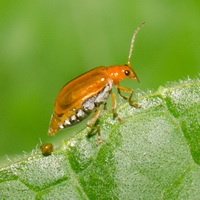insect: (48, 23, 143, 133)
